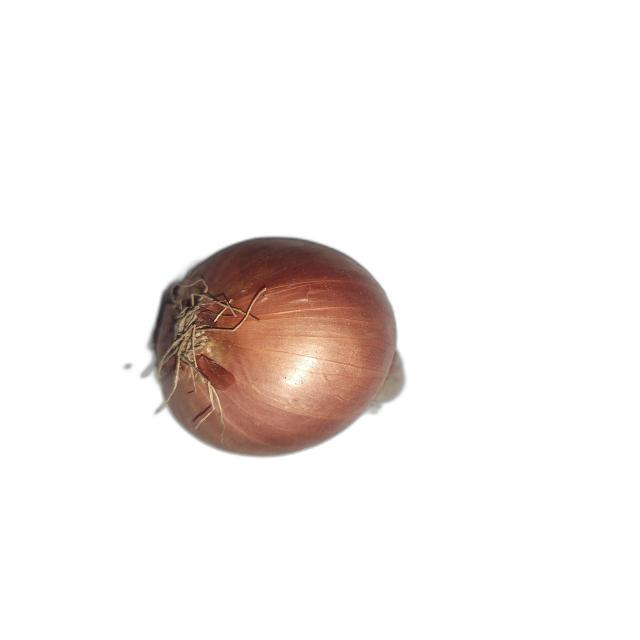onion: (156, 238, 403, 457)
